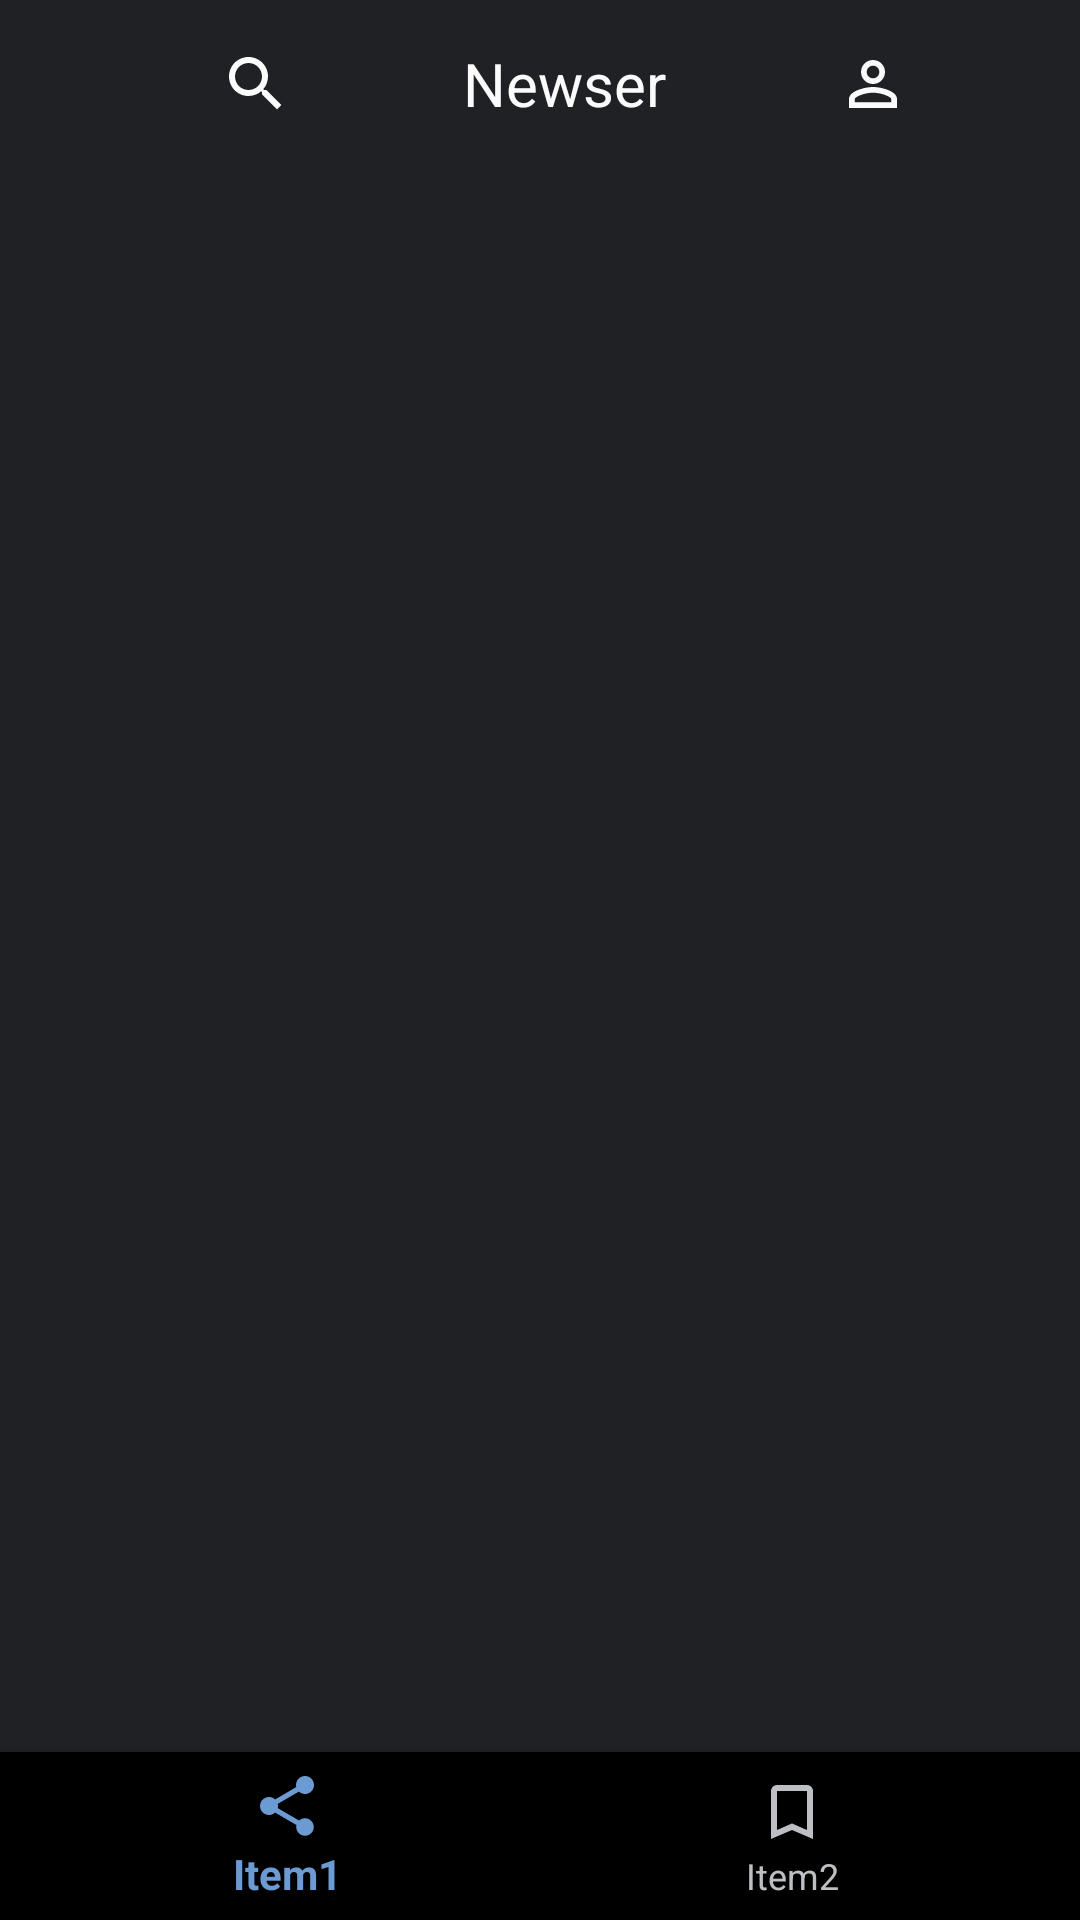

Icon click points for this 1080px x 1920px phone screenshot, format [x,y]:
person: [873,84]
search: [255,83]
